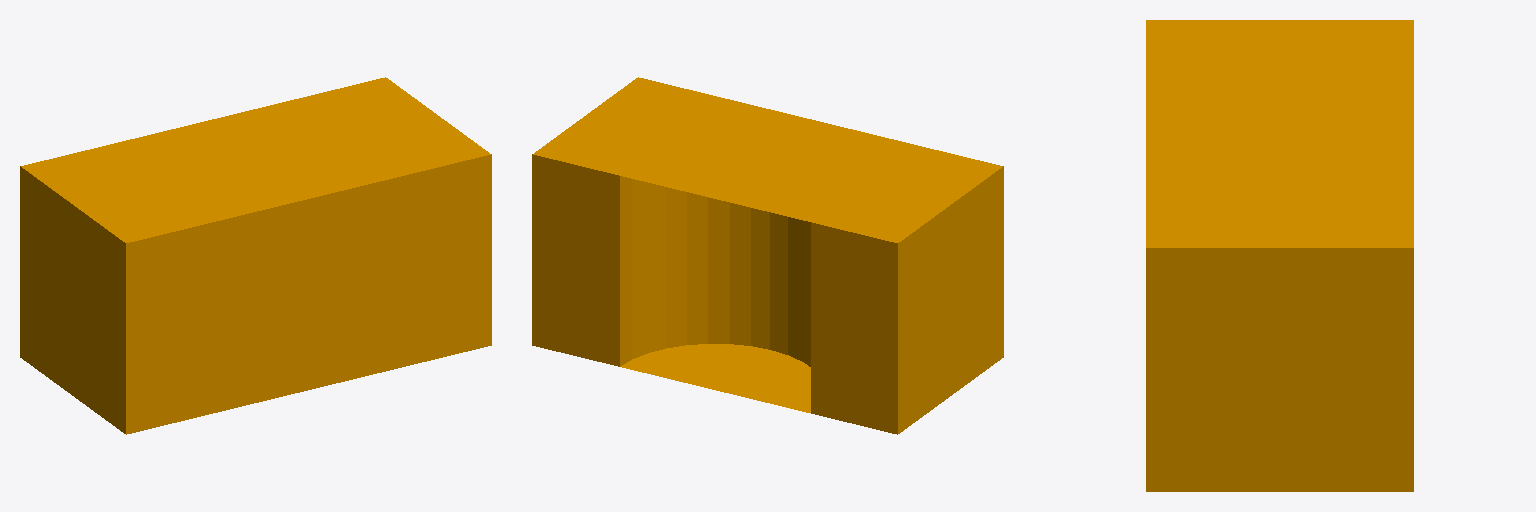
robot.urdf — concave.urdf:
<?xml version="1.0" encoding="utf-8"?>
<robot name="concave.urdf">
  <link name="baseLink">
    <contact>
      <lateral_friction value="0.5"/>
      <rolling_friction value="0.001"/>
      <spinning_friction value="0.001"/>
    </contact>
    <inertial>
      <origin rpy="0 0 0" xyz="0 0 0"/>
       <mass value="0.075"/>
       <inertia ixx="1" ixy="0" ixz="0" iyy="1" iyz="0" izz="1"/>
    </inertial>
    <visual>
      <origin rpy="0 0 0" xyz="0 0 0"/>
      <geometry>
         <mesh filename="concave.obj"/>
      </geometry>
    </visual>
    <collision>
      <origin rpy="0 0 0" xyz="0 0 0"/>
      <geometry>
	 	    <mesh filename="concave.obj"/>
      </geometry>
    </collision>
  </link>
</robot>

--- Render facts (derived) ---
Views: 3 orthographic renders of the robot side by side, from view 1: azimuth 30°, elevation 25°; view 2: azimuth 150°, elevation 25°; view 3: azimuth 270°, elevation 25°.
Model concave.urdf with 1 links and 0 joints (none), rooted at baseLink, posed every joint at zero.
Visible links, largest first — view 1: baseLink; view 2: baseLink; view 3: baseLink.
Boxes of the visible links, x1,y1,x2,y2 form: baseLink: (20,77,491,434); baseLink: (532,77,1003,434); baseLink: (1146,20,1413,491).
Size in the robot's own frame: 0.09 by 0.045 by 0.045 metres.
Meshes: 1 distinct files referenced, 1 mesh visuals loaded (1 OBJ).